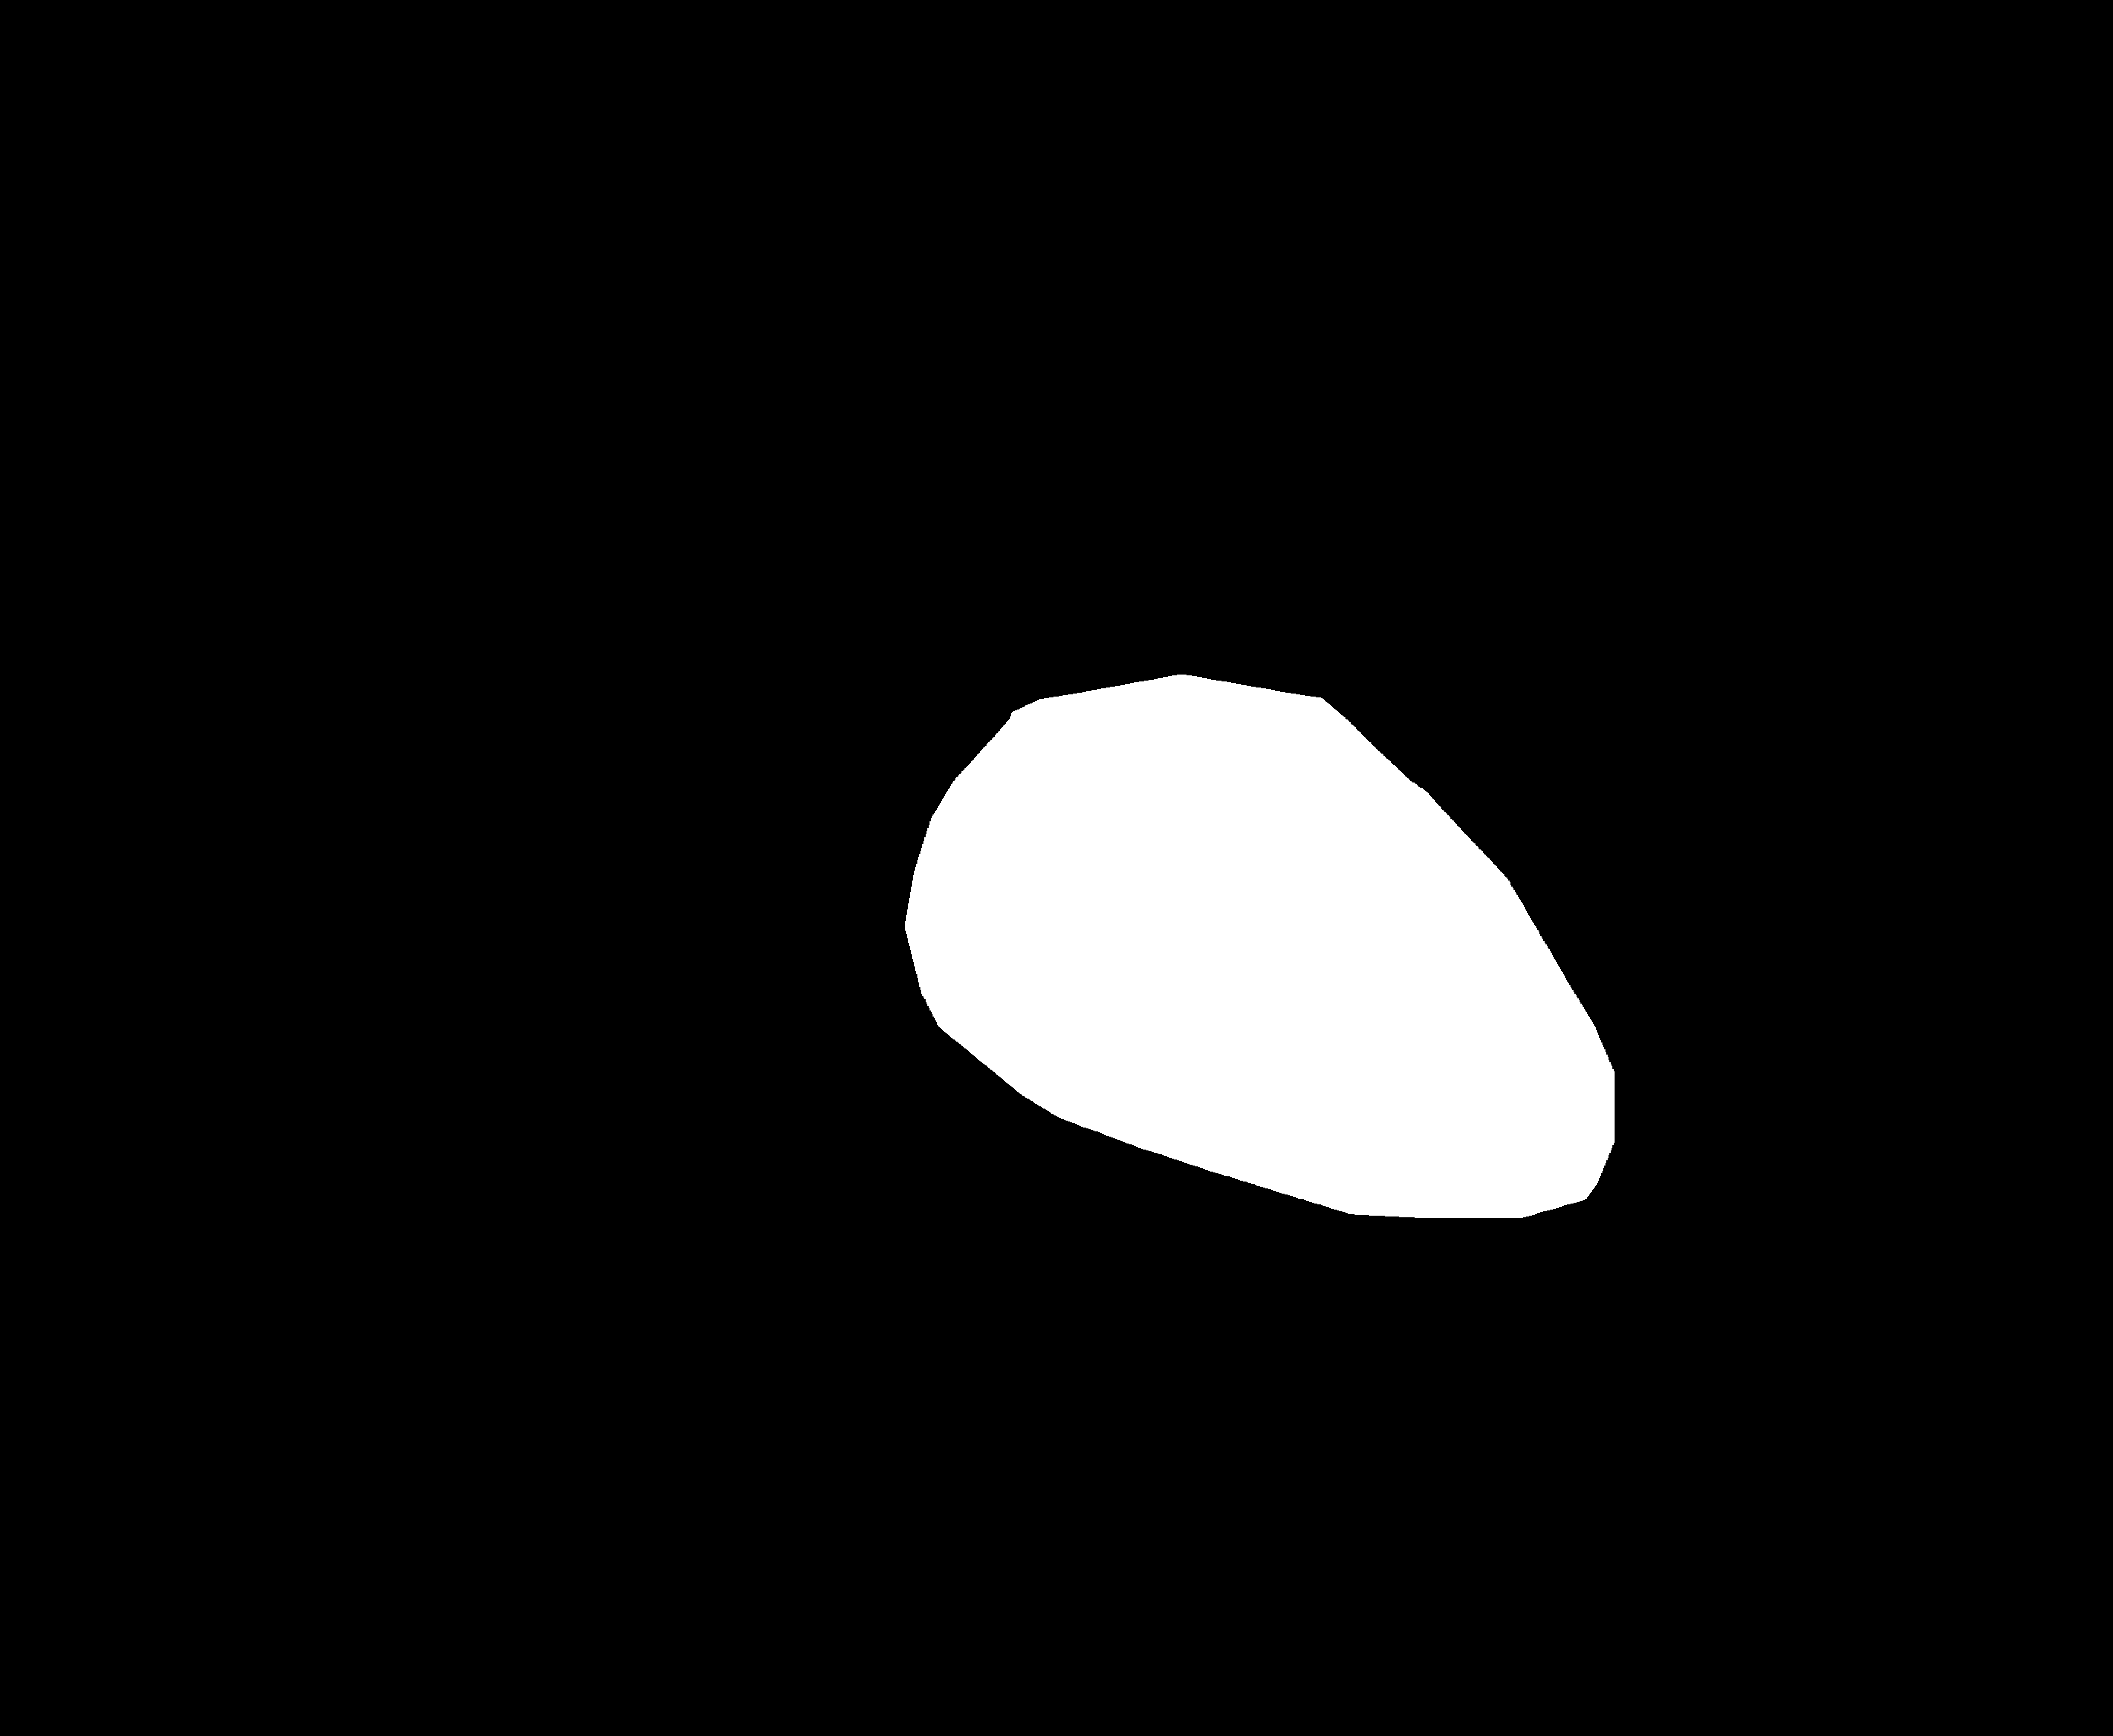heart: (911, 730, 1616, 1257)
left_lung: (444, 197, 1078, 1295)
right_lung: (1202, 181, 1757, 1401)
